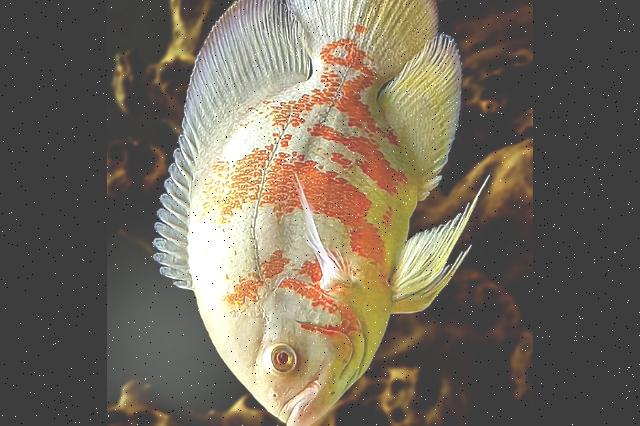Mulut: (258, 378, 335, 426)
Sirip Anal: (372, 32, 468, 198)
Sirip Dada: (292, 154, 368, 300)
Sirip Ekor: (277, 0, 443, 70)
Sirip Perut: (380, 169, 494, 327)
Sirip Punggung: (144, 0, 316, 293)
